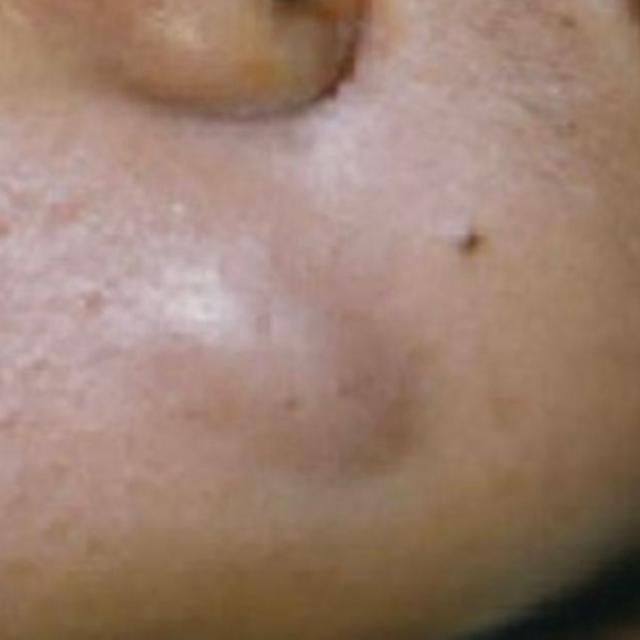nodule: (94, 157, 460, 509)
